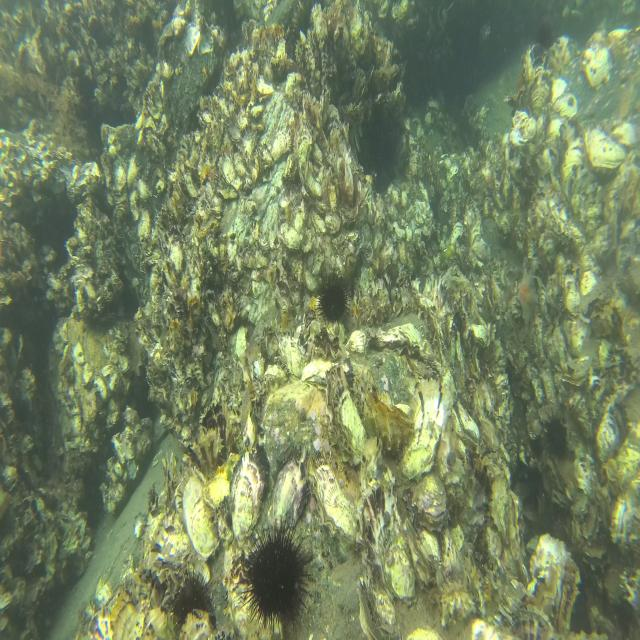echinus: (238, 509, 315, 637), (170, 565, 217, 631), (315, 263, 353, 327), (541, 406, 568, 460)
starfish: (514, 267, 541, 331)
